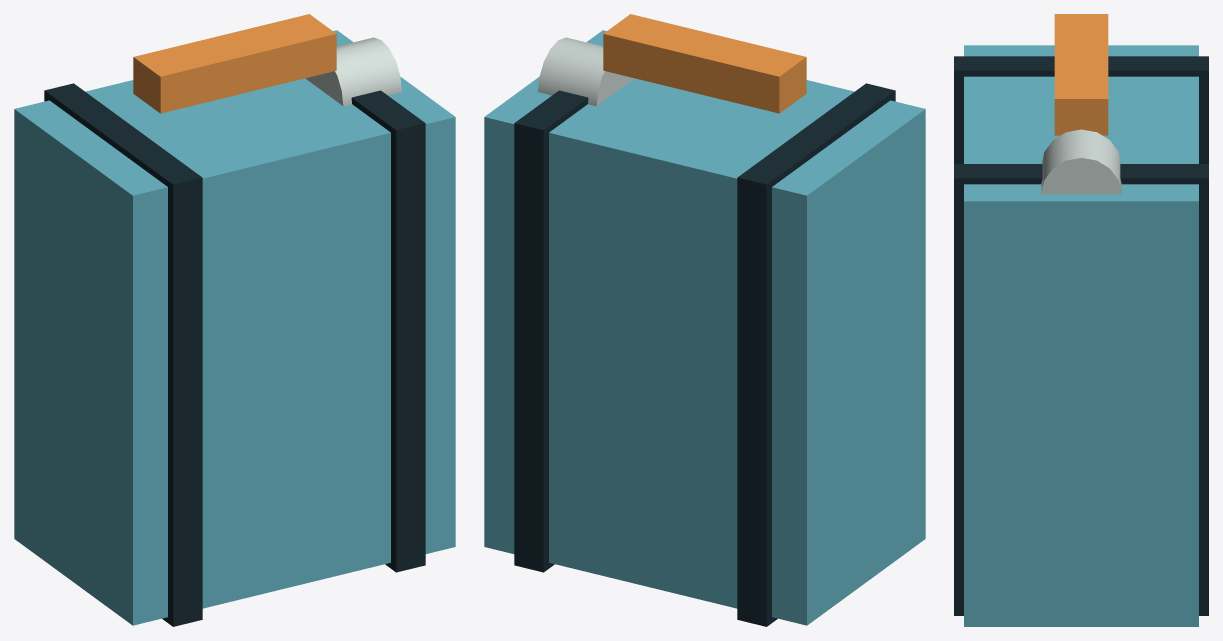
The model's file is water-bag-module.glb.
3 views of the same model, side by side, from view 1: azimuth 30°, elevation 25°; view 2: azimuth 150°, elevation 25°; view 3: azimuth 270°, elevation 25° (orthographic).
Parts seen in each view (by area): view 1: soft_water_case, strap_left, strap_right, carry_handle, hose_port; view 2: soft_water_case, strap_left, strap_right, carry_handle, hose_port; view 3: soft_water_case, strap_right, carry_handle, strap_left, hose_port.
Part boxes in pixels (left/top/right/bottom): soft_water_case: left=14, top=30, right=455, bottom=625; strap_left: left=44, top=83, right=202, bottom=626; strap_right: left=351, top=90, right=425, bottom=572; carry_handle: left=133, top=14, right=336, bottom=113; hose_port: left=305, top=37, right=401, bottom=106; soft_water_case: left=484, top=30, right=925, bottom=625; strap_left: left=737, top=83, right=895, bottom=626; strap_right: left=514, top=90, right=588, bottom=572; carry_handle: left=603, top=14, right=806, bottom=113; hose_port: left=538, top=37, right=634, bottom=106; soft_water_case: left=964, top=45, right=1198, bottom=626; strap_right: left=954, top=164, right=1208, bottom=615; carry_handle: left=1054, top=14, right=1108, bottom=135; strap_left: left=954, top=56, right=1208, bottom=163; hose_port: left=1041, top=129, right=1121, bottom=194.
Size of the model in its own units: 0.55 by 0.82 by 0.38.
